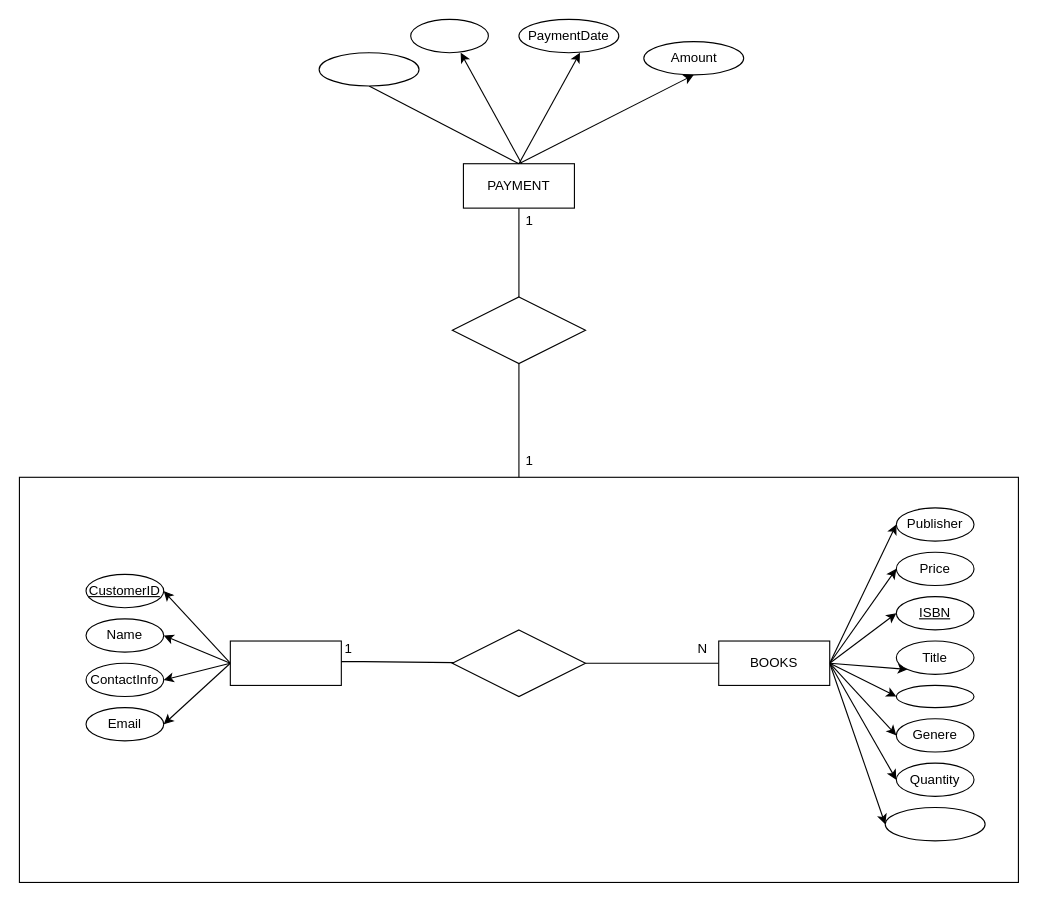
This 1038x902 diagram has some shape labels left out. Here are the shapes that lost their labels. From the top down, the centre of each, then its label:
At point (449, 35): "PaymentID".
At point (368, 69): "PaymentType".
At point (518, 330): "Makes".
At point (285, 662): "CUSTOMER".
At point (518, 663): "Buys".
At point (934, 696): "Author".
At point (934, 823): "PublicationDate".
